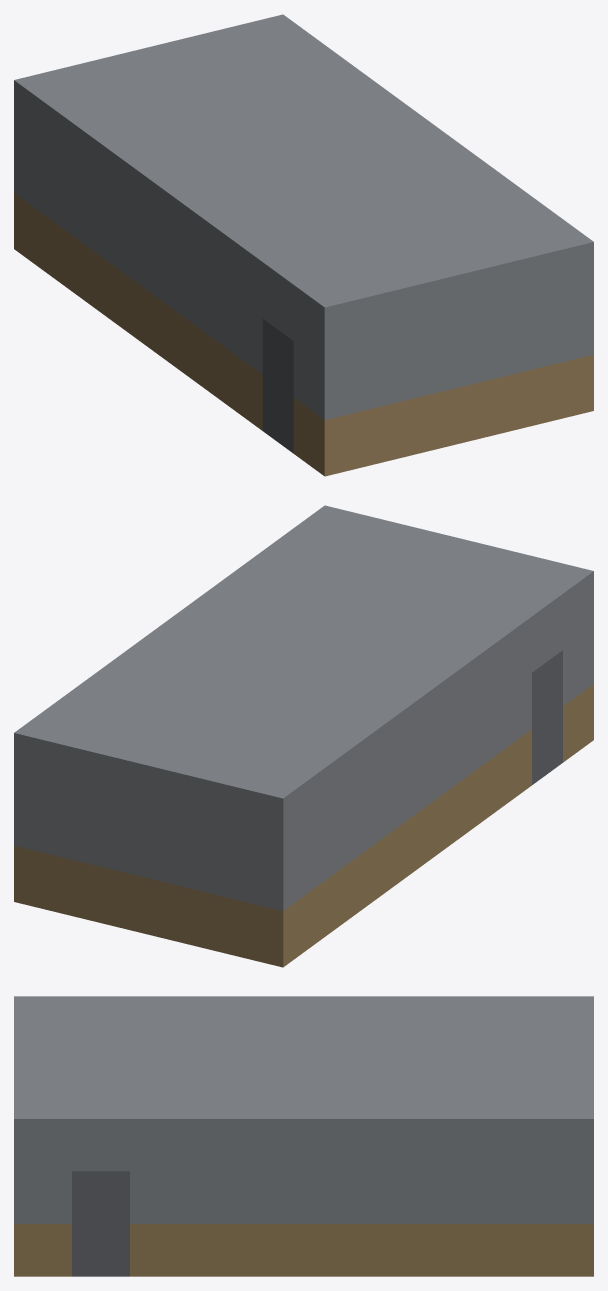
Rendered from left_foot.glb.
The picture shows the model from 3 angles, top to bottom: view 1: azimuth 30°, elevation 25°; view 2: azimuth 150°, elevation 25°; view 3: azimuth 270°, elevation 25°; orthographic projection. The views are drawn at different scales.
Bounding box in the file's own units: 5 × 3 × 10.
